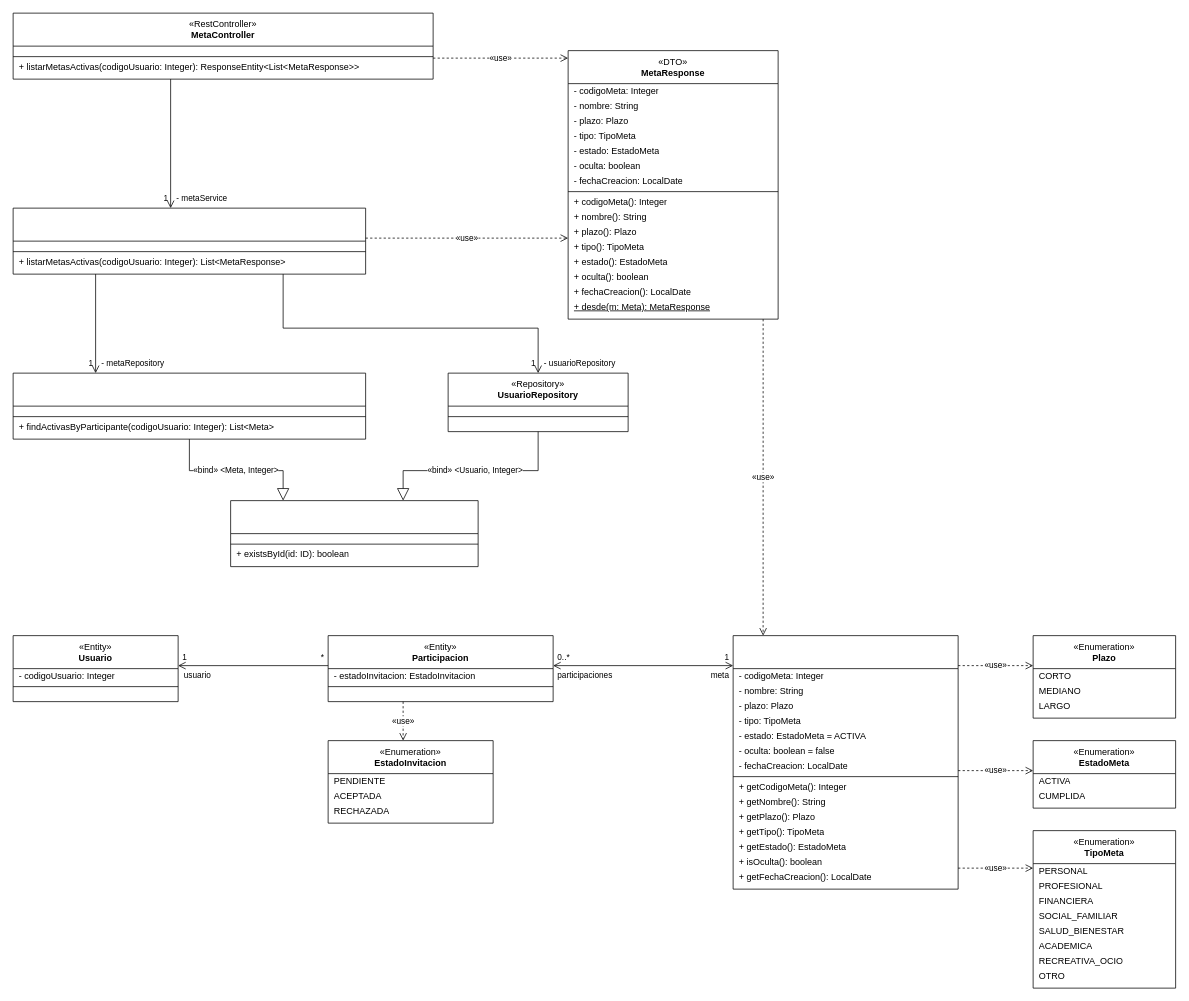
This 1189x1001 diagram has some shape labels left out. The box of each missing label's shape, as (x1, y1, x2, y2) in pixels:
«Entity» Meta: (732, 635, 958, 889)
«Interface» JpaRepository<T, ID>: (230, 500, 478, 567)
«Repository» MetaRepository: (12, 372, 366, 439)
«Service» MetaService: (12, 207, 366, 274)
